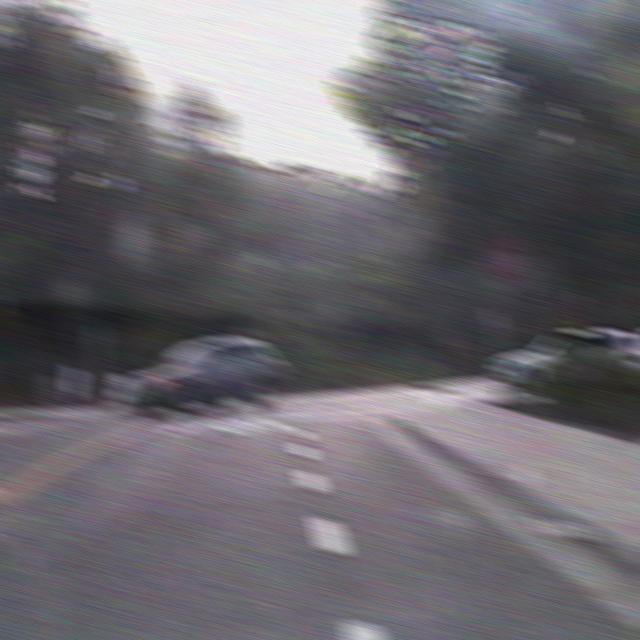stop: (478, 232, 526, 292)
